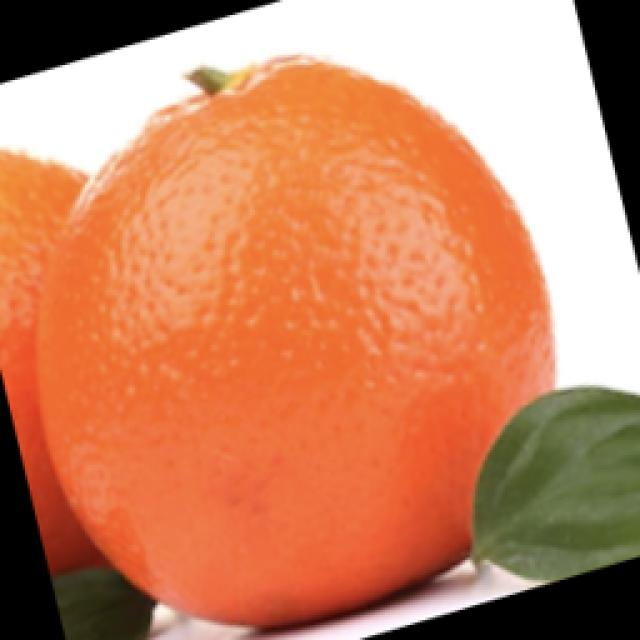Fresh_Orange: (33, 53, 603, 606)
